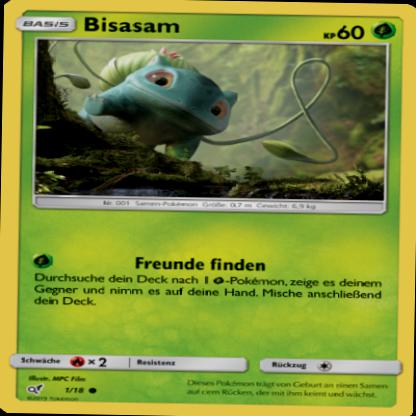Bulbasaur: (76, 46, 243, 164)
